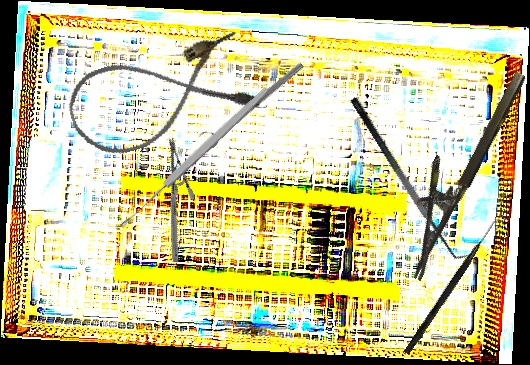Cannula: (60, 26, 263, 166)
Fixation Ring: (195, 54, 307, 152)
Hook Surgical: (403, 218, 498, 356)
Needle Holder: (380, 56, 529, 282), (116, 135, 231, 265)
Spatula Surgical: (348, 87, 471, 269)
Surgical Spoon: (117, 84, 272, 231)
